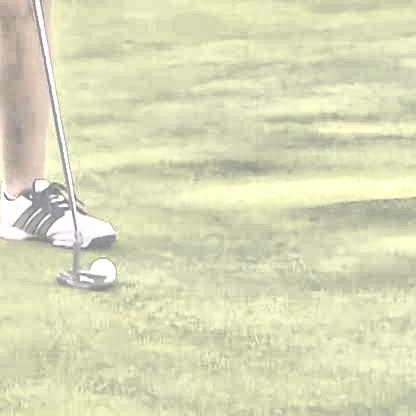golfball: (86, 255, 111, 283)
